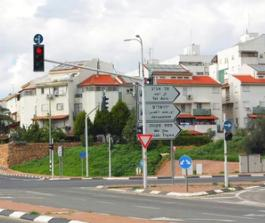red_light: (33, 44, 45, 72)
